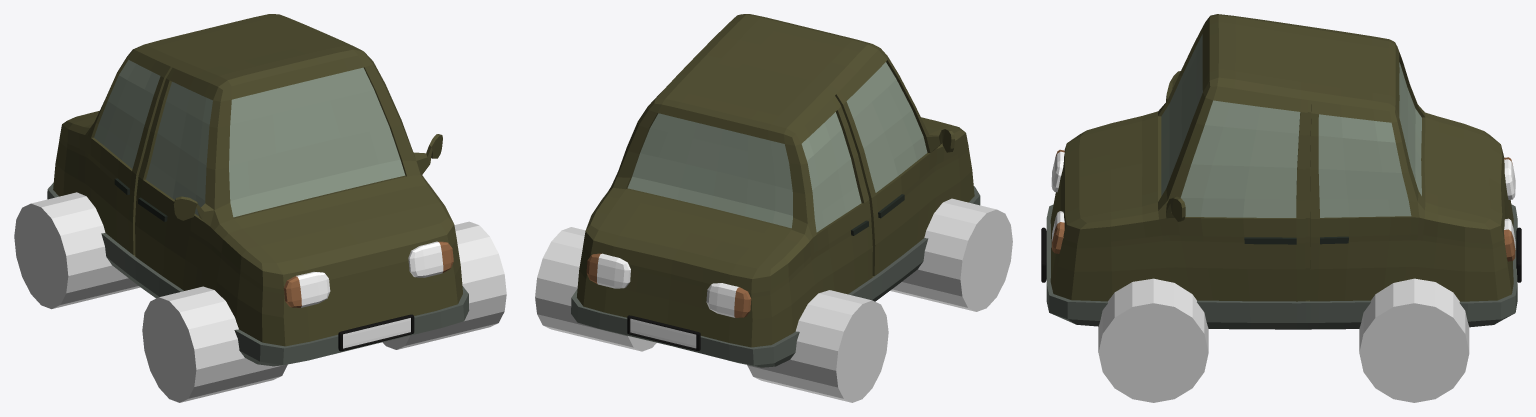
Rendered from car2-3.fbx.
3 views of the same model, side by side, from view 1: azimuth 30°, elevation 25°; view 2: azimuth 150°, elevation 25°; view 3: azimuth 270°, elevation 25° (orthographic). The views are drawn at different scales.
Parts seen in each view (by area): view 1: Cube, Cylinder.002, Cylinder.003, Cylinder, Cube.001, Cube.004, Cube.003; view 2: Cube, Cylinder.003, Cylinder.002, Cylinder.001, Cube.002, Cube.006, Cube.005; view 3: Cube, Cylinder, Cylinder.001, Cube.003.
Boxes of the visible parts, x1,y1,x2,y2 form: Cube: (47, 14, 469, 366); Cylinder.002: (142, 286, 287, 402); Cylinder.003: (14, 192, 140, 309); Cylinder: (383, 221, 506, 349); Cube.001: (338, 314, 414, 351); Cube.004: (283, 272, 330, 307); Cube.003: (408, 241, 453, 277); Cube: (571, 14, 980, 367); Cylinder.003: (747, 290, 888, 402); Cylinder.002: (890, 198, 1012, 311); Cylinder.001: (535, 227, 656, 351); Cube.002: (627, 315, 700, 350); Cube.006: (706, 283, 751, 317); Cube.005: (586, 253, 630, 288); Cube: (1046, 14, 1517, 329); Cylinder: (1098, 278, 1208, 402); Cylinder.001: (1359, 278, 1469, 402); Cube.003: (1051, 211, 1064, 253).
Size of the model in its own units: 559 by 472 by 737.
